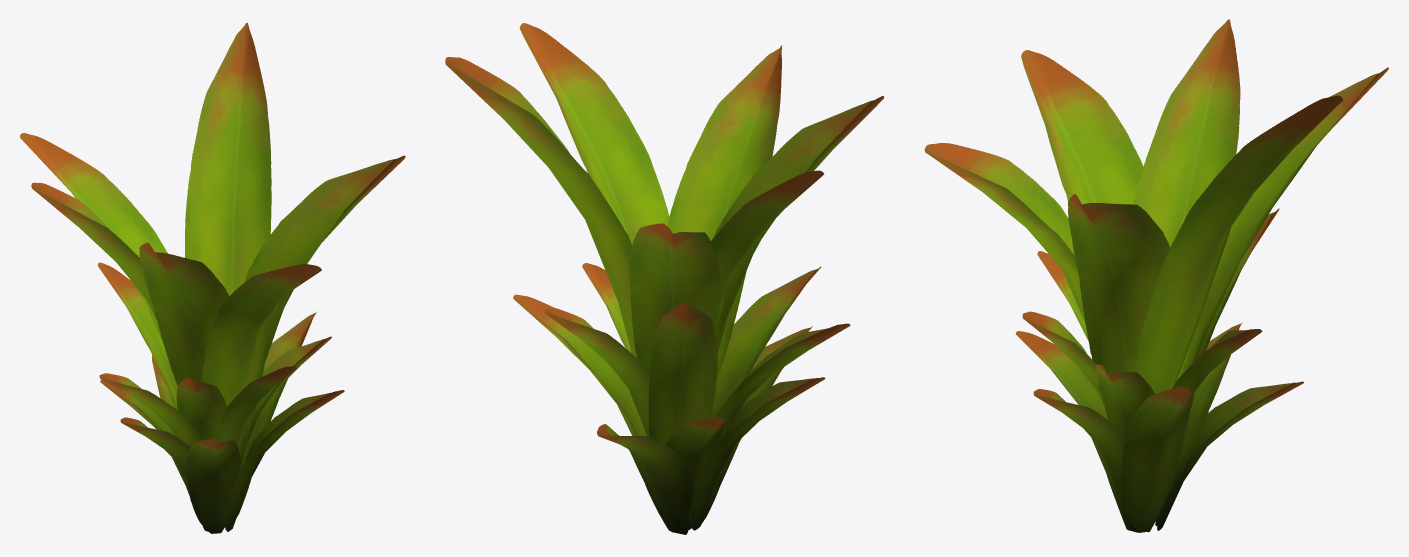
Rendered from Plant_1_Big.glb.
The picture shows the model from 3 angles, left to right: view 1: azimuth 30°, elevation 25°; view 2: azimuth 150°, elevation 25°; view 3: azimuth 270°, elevation 25°; orthographic projection. The views are drawn at different scales.
Parts seen in each view (by area): view 1: Plant_1_Big; view 2: Plant_1_Big; view 3: Plant_1_Big.
Part boxes in pixels (x1,y1,x2,y2): Plant_1_Big: (20,22,405,533); Plant_1_Big: (445,23,883,534); Plant_1_Big: (924,19,1388,532).
Bounding box in the file's own units: 1.81 × 2.35 × 1.95.
1 material, 1 textured.
